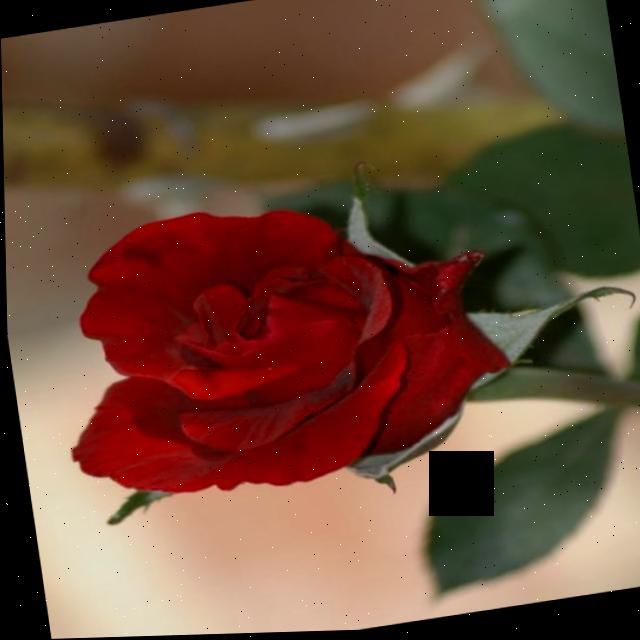rose: (22, 140, 534, 536)
